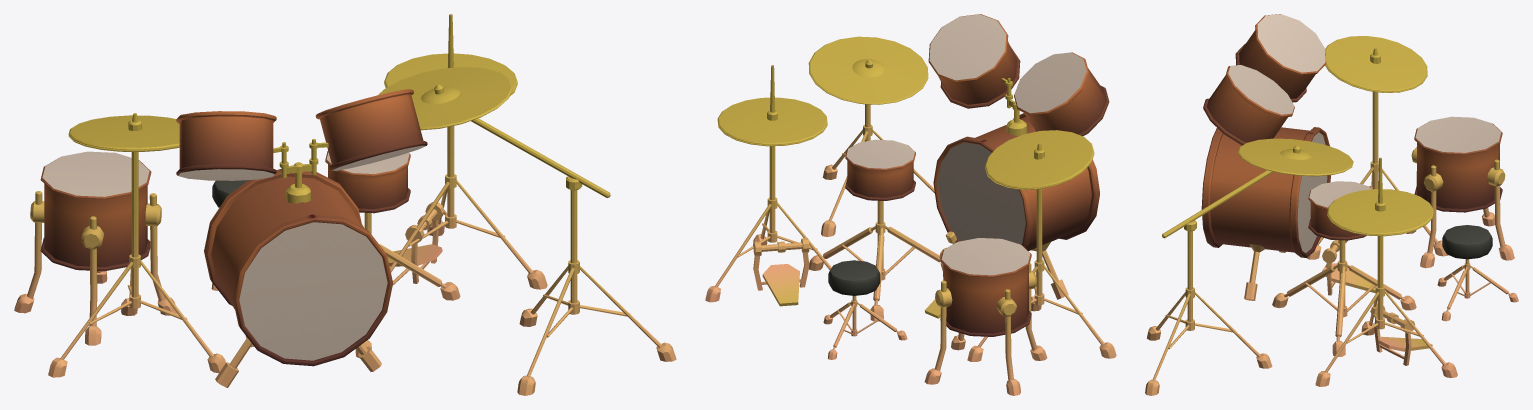
The model's file is Drumset_Geo.fbx.
3 views of the same model, side by side, from view 1: azimuth 30°, elevation 25°; view 2: azimuth 150°, elevation 25°; view 3: azimuth 270°, elevation 25° (orthographic). The views are drawn at different scales.
Visible parts, largest first — view 1: Drumset_geo; view 2: Drumset_geo; view 3: Drumset_geo.
Part boxes in pixels (x1,y1,x2,y2): Drumset_geo: [14, 14, 676, 395]; Drumset_geo: [705, 14, 1116, 395]; Drumset_geo: [1145, 14, 1518, 395].
Bounding box in the file's own units: 180 × 102 × 149.
